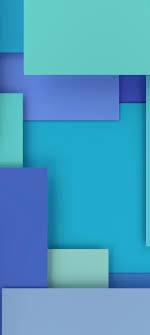cyan_zone: (19, 1, 150, 80)
